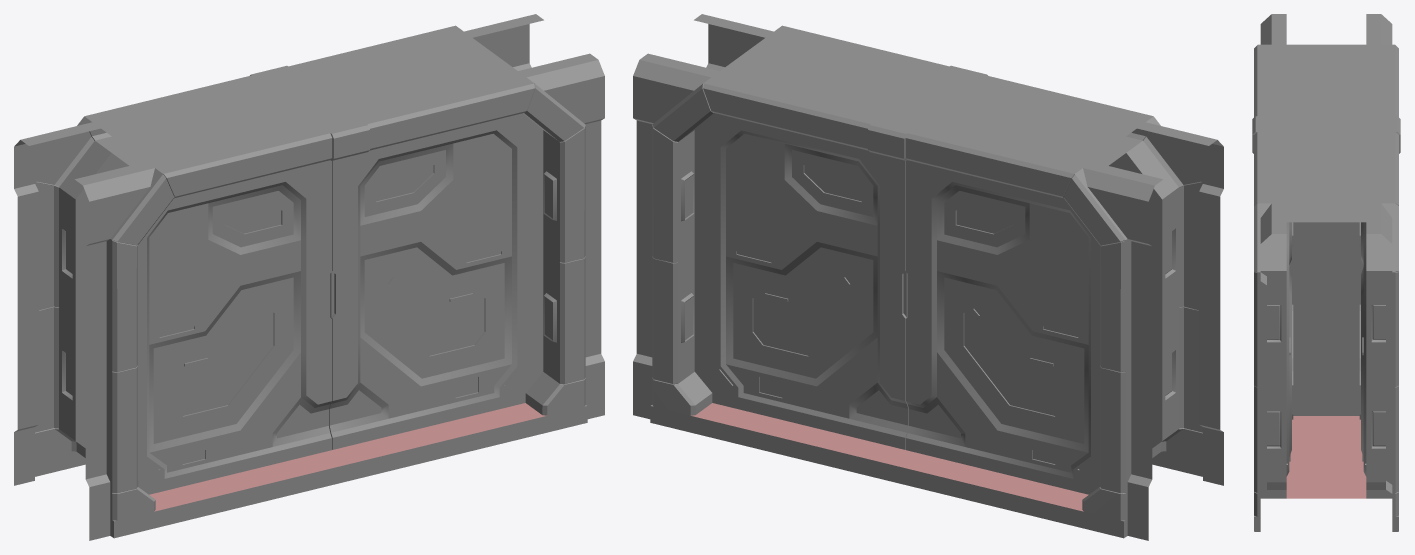
The model's file is Puerta Grande.FBX.
The picture shows the model from 3 angles, left to right: view 1: azimuth 30°, elevation 25°; view 2: azimuth 150°, elevation 25°; view 3: azimuth 270°, elevation 25°; orthographic projection. The views are drawn at different scales.
Visible parts, largest first — view 1: Puerta006, Doors003, Door002, Object018; view 2: Puerta006, Doors003, Door002, Object018; view 3: Puerta006, Doors003, Object018.
Part boxes in pixels (x1,y1,x2,y2): Puerta006: [14, 14, 604, 540]; Doors003: [329, 113, 543, 449]; Door002: [75, 153, 331, 494]; Object018: [149, 403, 546, 511]; Puerta006: [633, 14, 1223, 540]; Doors003: [694, 113, 908, 449]; Door002: [906, 153, 1162, 494]; Object018: [691, 403, 1088, 511]; Puerta006: [1252, 14, 1400, 531]; Doors003: [1286, 222, 1366, 476]; Object018: [1286, 416, 1366, 498].
Size of the model in its own units: 157 by 102 by 44.93.
